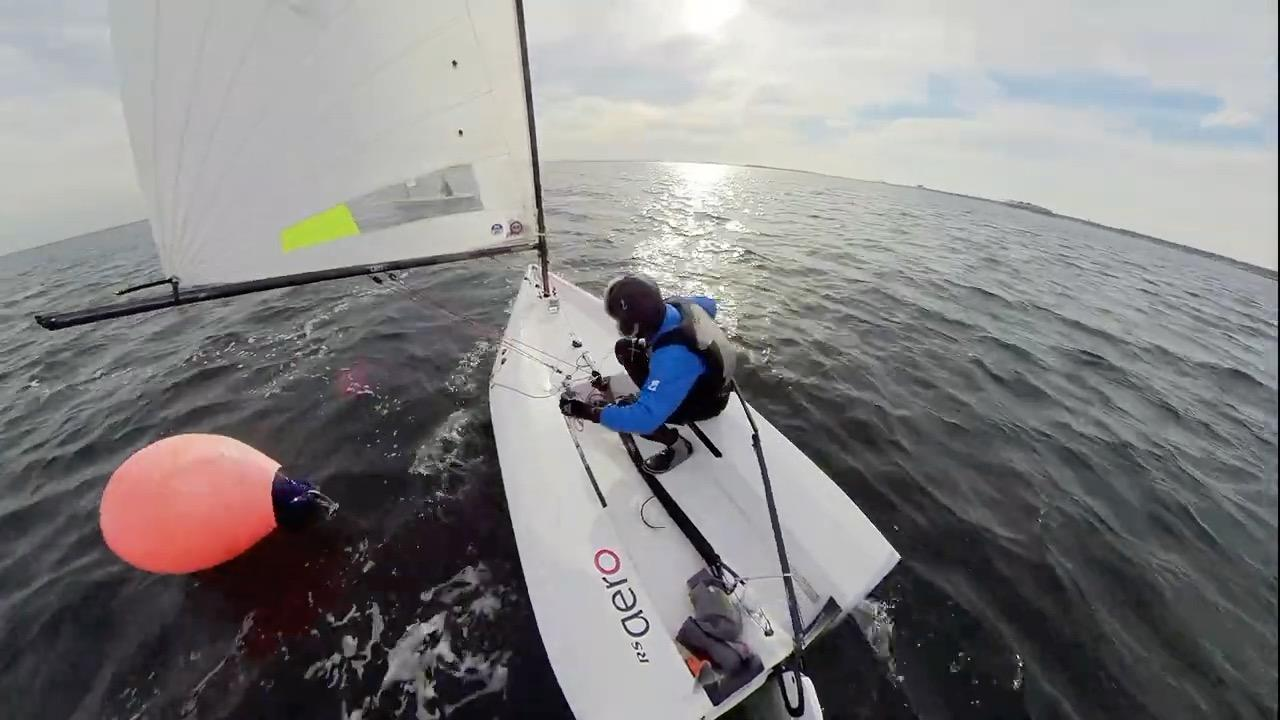boat: (108, 0, 900, 720)
person: (562, 278, 733, 475)
sea: (542, 162, 1279, 720), (0, 223, 575, 720)
sky: (511, 0, 1280, 268), (0, 0, 151, 258)
